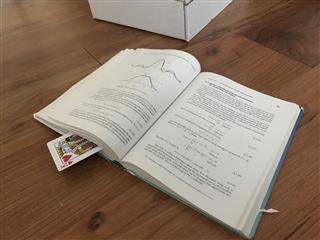KingOfHearts: (46, 132, 102, 171)
